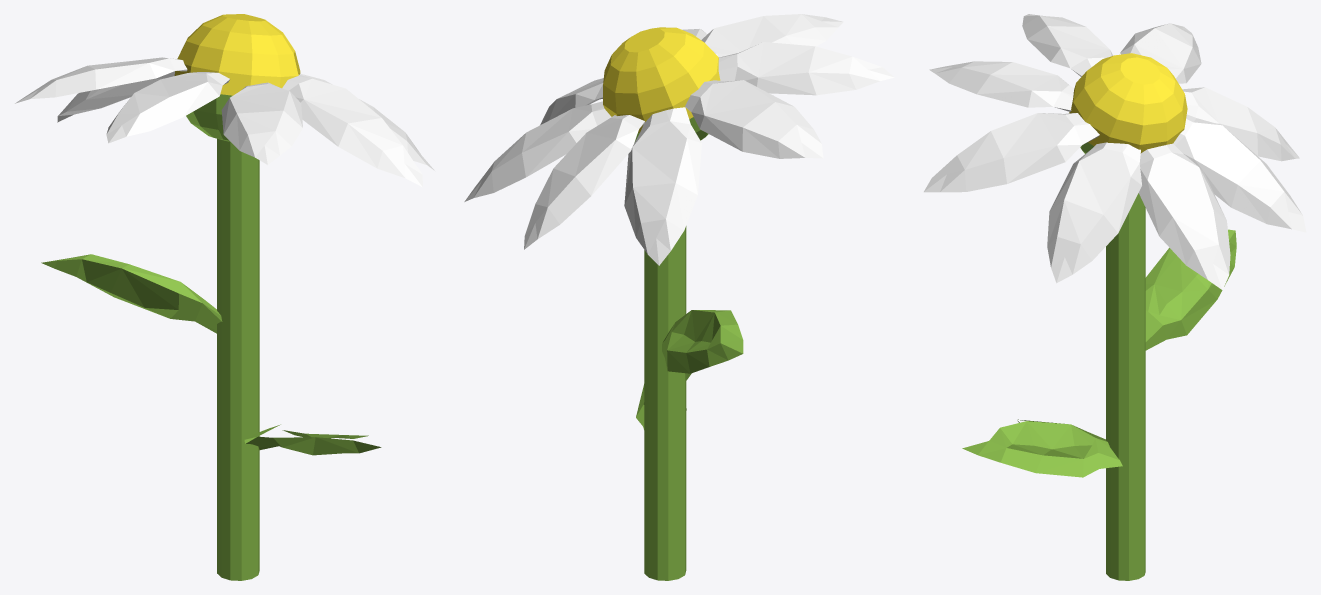
The model's file is daisy-8FovhiSACst.glb.
3 renders of one model, left to right at view 1: azimuth 30°, elevation 25°; view 2: azimuth 150°, elevation 25°; view 3: azimuth 270°, elevation 25°, orthographic. The views are drawn at different scales.
Visible parts, largest first — view 1: Node; view 2: Node; view 3: Node.
Part boxes in pixels (left/top/right/bottom): Node: left=15, top=14, right=434, bottom=580; Node: left=464, top=14, right=894, bottom=580; Node: left=924, top=14, right=1306, bottom=580.
Size of the model in its own units: 0.1886 by 0.282 by 0.1905.
